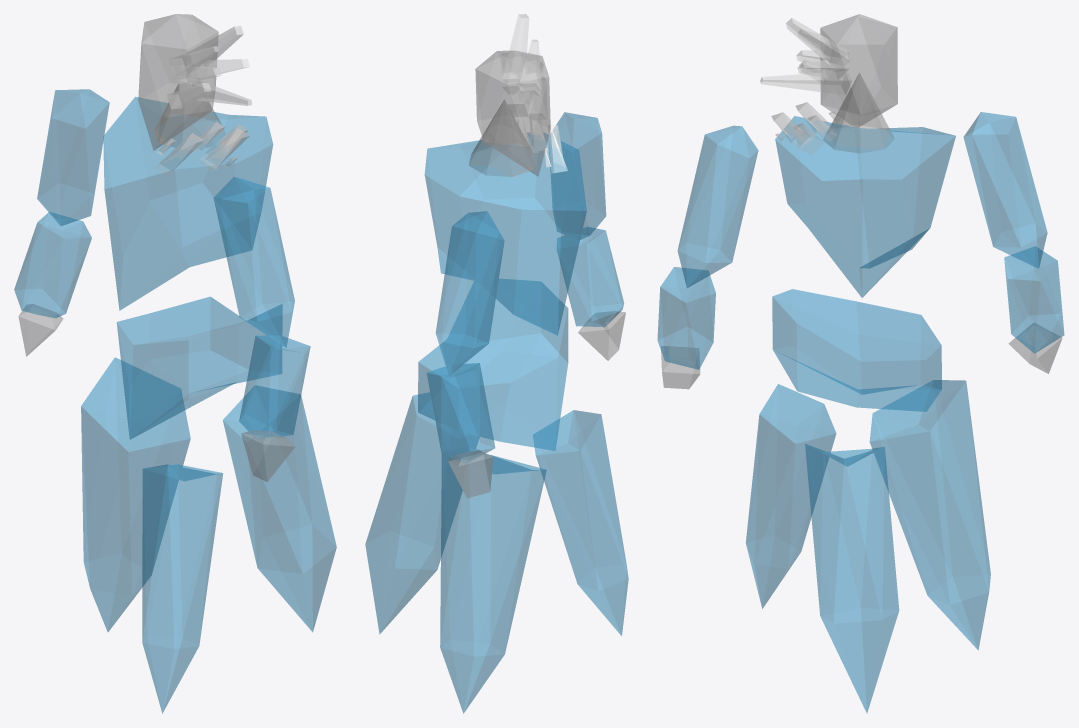
The model's file is ghostIdle7.obj.
The picture shows the model from 3 angles, left to right: view 1: azimuth 30°, elevation 25°; view 2: azimuth 150°, elevation 25°; view 3: azimuth 270°, elevation 25°; orthographic projection. The views are drawn at different scales.
Visible parts, largest first — view 1: Cube.001_Cube.001, Icosphere.005, Icosphere.004, Cube_Cube.002, Icosphere.003, Icosphere.005_Icosphere.001, Icosphere.003_Icosphere.001, Icosphere.007_Icosphere.001, Icosphere.006_Icosphere.001, Icosphere.008_Icosphere.001, Cone_Cone.002, Cube.002_Cube.001 (+8 smaller); view 2: Cube.001_Cube.001, Cube_Cube.002, Icosphere.005, Icosphere.004, Icosphere.003, Icosphere.007_Icosphere.001, Icosphere.003_Icosphere.001, Icosphere.005_Icosphere.001, Icosphere.008_Icosphere.001, Icosphere.006_Icosphere.001, Cone_Cone.002, Cube.003_Cube.001 (+6 smaller); view 3: Cube.001_Cube.001, Icosphere.005, Icosphere.004, Cube_Cube.002, Icosphere.003, Icosphere.005_Icosphere.001, Icosphere.007_Icosphere.001, Icosphere.003_Icosphere.001, Icosphere.006_Icosphere.001, Icosphere.008_Icosphere.001, Cone_Cone.002, Cube.003_Cube.001 (+4 smaller).
Part boxes in pixels (x1,y1,x2,y2): Cube.001_Cube.001: (103,97,273,310); Icosphere.005: (81,357,190,631); Icosphere.004: (223,385,336,632); Cube_Cube.002: (116,296,282,439); Icosphere.003: (142,464,222,713); Icosphere.005_Icosphere.001: (213,176,294,347); Icosphere.003_Icosphere.001: (138,14,218,150); Icosphere.007_Icosphere.001: (37,89,109,225); Icosphere.006_Icosphere.001: (239,335,310,439); Icosphere.008_Icosphere.001: (14,212,91,318); Cone_Cone.002: (154,84,225,147); Cube.002_Cube.001: (241,430,294,481); Cube.001_Cube.001: (424,132,586,335); Cube_Cube.002: (418,279,568,450); Icosphere.005: (440,447,546,713); Icosphere.004: (365,392,479,634); Icosphere.003: (533,410,628,635); Icosphere.007_Icosphere.001: (435,211,504,375); Icosphere.003_Icosphere.001: (475,50,550,176); Icosphere.005_Icosphere.001: (549,112,606,239); Icosphere.008_Icosphere.001: (427,363,495,463); Icosphere.006_Icosphere.001: (557,227,623,326); Cone_Cone.002: (469,99,533,176); Cube.003_Cube.001: (448,449,493,498); Cube.001_Cube.001: (775,116,955,297); Icosphere.005: (869,380,990,650); Icosphere.004: (805,444,899,712); Cube_Cube.002: (772,289,941,411); Icosphere.003: (746,384,836,608); Icosphere.005_Icosphere.001: (677,125,758,287); Icosphere.007_Icosphere.001: (963,112,1047,268); Icosphere.003_Icosphere.001: (820,14,897,127); Icosphere.006_Icosphere.001: (657,267,715,369); Icosphere.008_Icosphere.001: (1004,246,1064,353); Cone_Cone.002: (823,73,894,153); Cube.003_Cube.001: (1008,323,1062,373).
Bounding box in the file's own units: 16.94 × 48.01 × 27.37.
